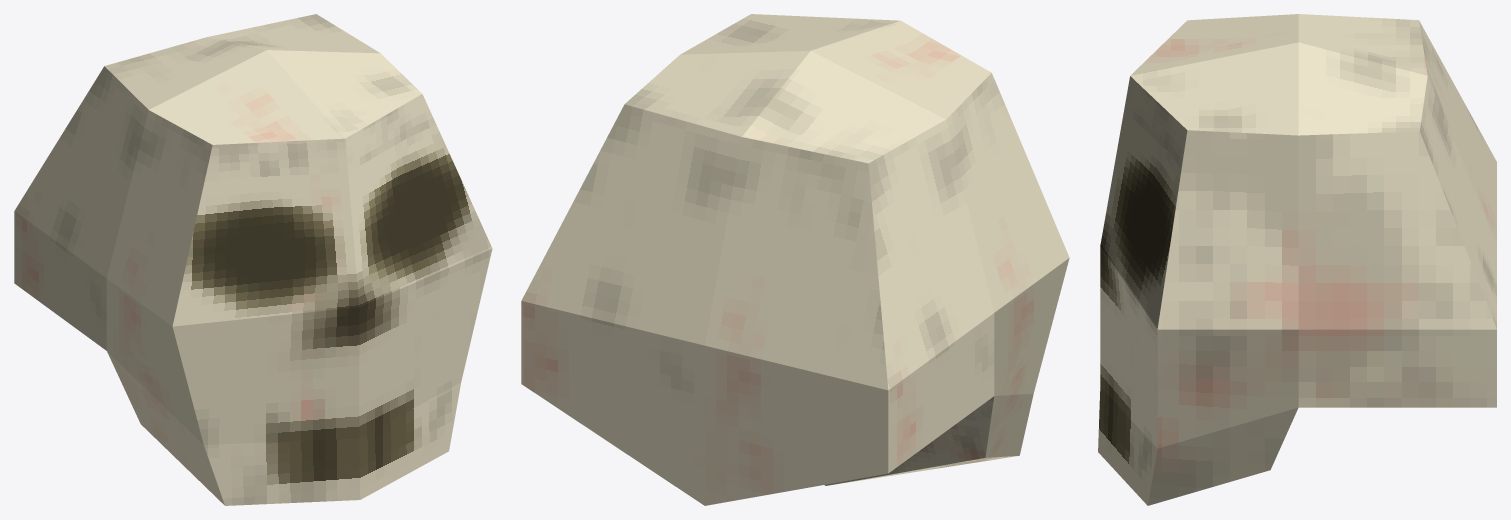
The model's file is skull.glb.
3 renders of one model, left to right at view 1: azimuth 30°, elevation 25°; view 2: azimuth 150°, elevation 25°; view 3: azimuth 270°, elevation 25°, orthographic. The views are drawn at different scales.
Visible parts, largest first — view 1: Cube; view 2: Cube; view 3: Cube.
Part boxes in pixels (x1,y1,x2,y2): Cube: [14, 14, 492, 505]; Cube: [521, 14, 1069, 505]; Cube: [1098, 14, 1496, 505].
Bounding box in the file's own units: 0.6654 × 0.773 × 0.6692.
1 material, 1 textured.
